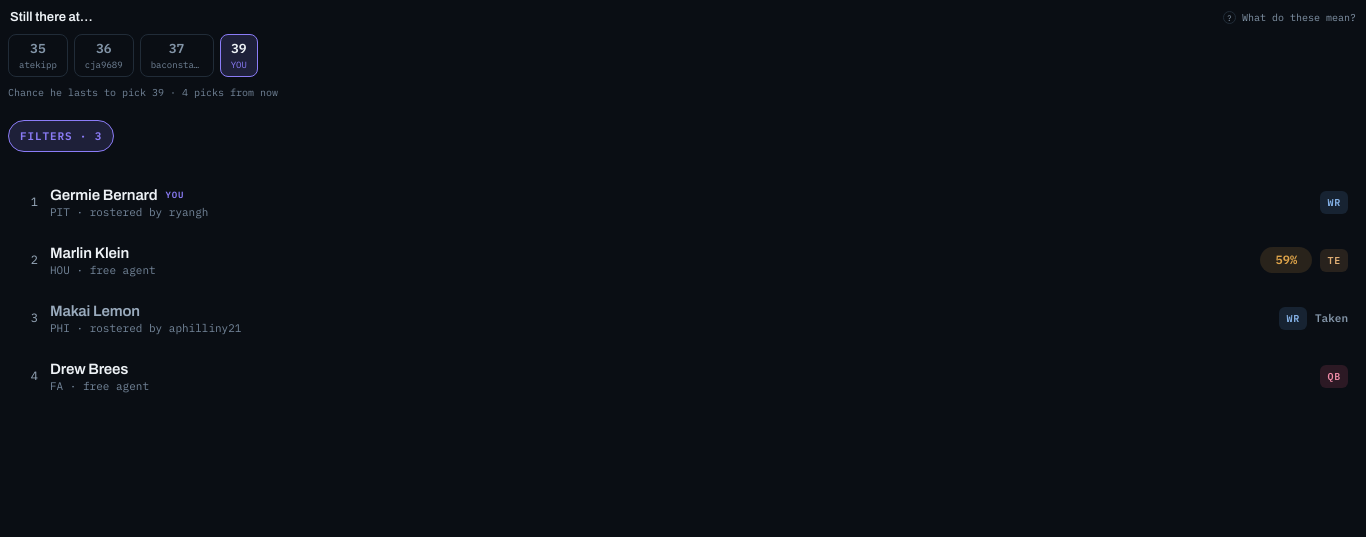
Test case: BestAvailable › with availability intel › the drill-down › carries the sample size on every manager claim (§3 copy rules)
Click the button "2 Marlin Klein HOU · free agent 59% TE". click: click(90, 253)
box: [8,232,1358,288]
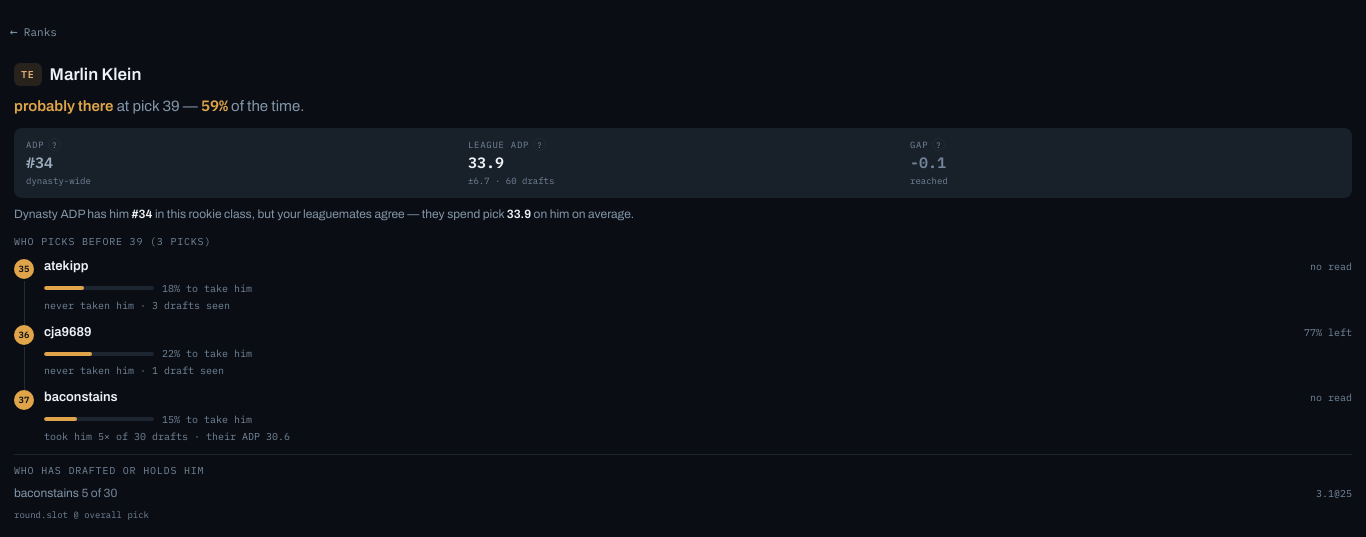
expect the text "never taken him · 3 drafts seen" is shown: met, box [44,299,230,312]
expect the text "never taken him · 1 draft seen" is shown: met, box [44,364,224,377]
expect the text "took him 5× of 30 drafts · their ADP 30.6" is shown: met, box [44,430,290,443]
